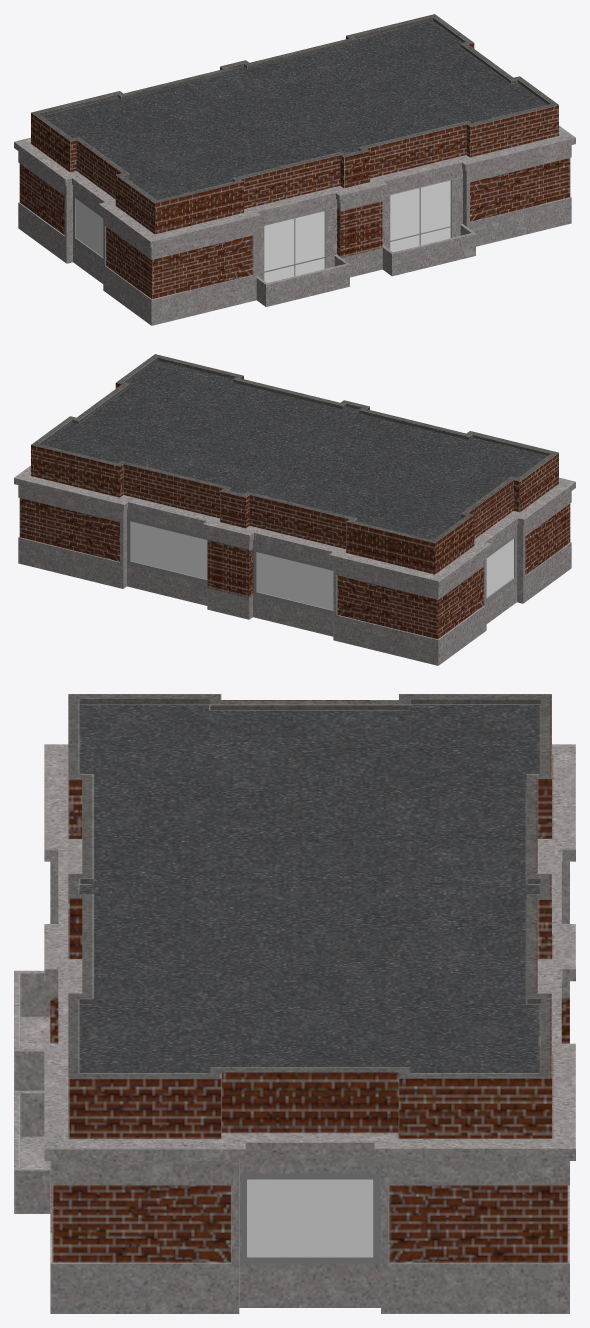
The model's file is gebaeude_b01.fbx.
3 views of the same model, one above another, from view 1: azimuth 30°, elevation 25°; view 2: azimuth 150°, elevation 25°; view 3: azimuth 270°, elevation 25° (orthographic). The views are drawn at different scales.
Parts seen in each view (by area): view 1: Building_2; view 2: Building_2; view 3: Building_2.
Boxes of the visible parts, x1,y1,x2,y2 form: Building_2: [14, 14, 575, 325]; Building_2: [14, 354, 575, 665]; Building_2: [14, 694, 575, 1313].
Bounding box in the file's own units: 4052 × 1068 × 2380.
Materials: 1 (1 with a texture image).
